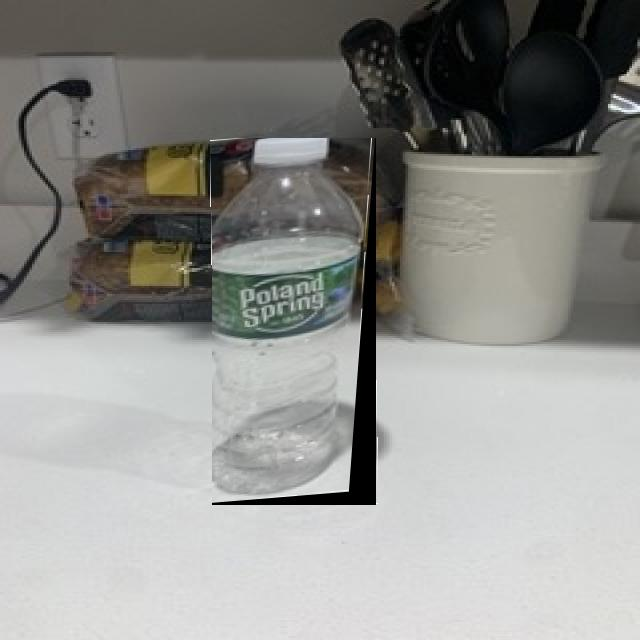water_bottle: (212, 138, 376, 505)
